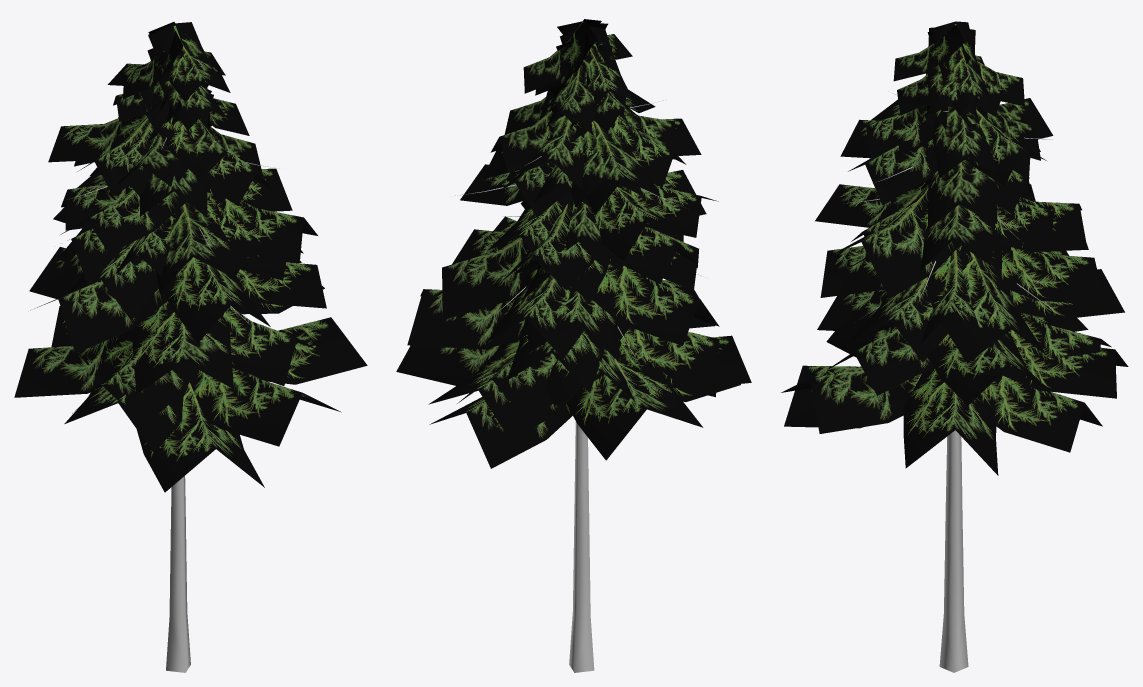
Rendered from BigPine.fbx.
The picture shows the model from 3 angles, left to right: view 1: azimuth 30°, elevation 25°; view 2: azimuth 150°, elevation 25°; view 3: azimuth 270°, elevation 25°; orthographic projection.
Visible parts, largest first — view 1: PineTreeBranch_single_color.281, tree.001; view 2: PineTreeBranch_single_color.281, tree.001; view 3: PineTreeBranch_single_color.281, tree.001.
Part boxes in pixels (x1,y1,x2,y2): PineTreeBranch_single_color.281: [14, 22, 367, 492]; tree.001: [67, 51, 279, 672]; PineTreeBranch_single_color.281: [396, 19, 751, 468]; tree.001: [455, 21, 700, 672]; PineTreeBranch_single_color.281: [781, 21, 1128, 475]; tree.001: [847, 91, 1060, 672].
Bounding box in the file's own units: 8.56 × 17.37 × 8.43.
